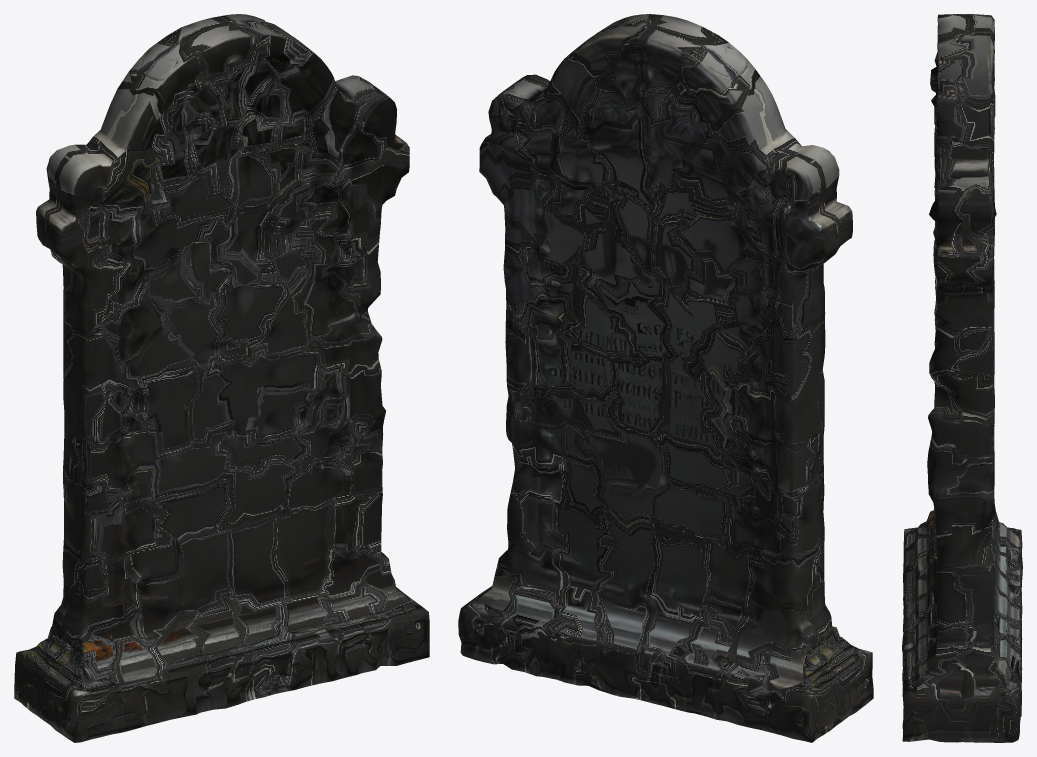
Rendered from gravestone.glb.
3 renders of one model, left to right at view 1: azimuth 30°, elevation 25°; view 2: azimuth 150°, elevation 25°; view 3: azimuth 270°, elevation 25°, orthographic. The views are drawn at different scales.
Size of the model in its own units: 1.15 by 2 by 0.3467.
Materials: 1 (1 with a texture image).
